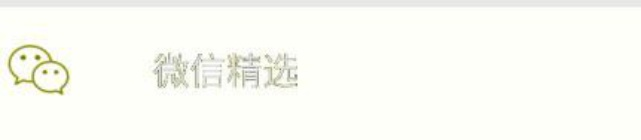CheckedTextView: (1, 1, 640, 139)
